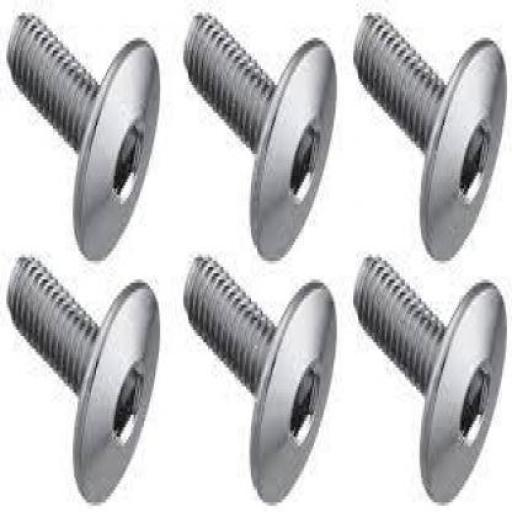bolt: (182, 252, 337, 506), (6, 252, 160, 506), (352, 252, 506, 506), (182, 10, 337, 262), (6, 10, 160, 262), (352, 10, 506, 262)
